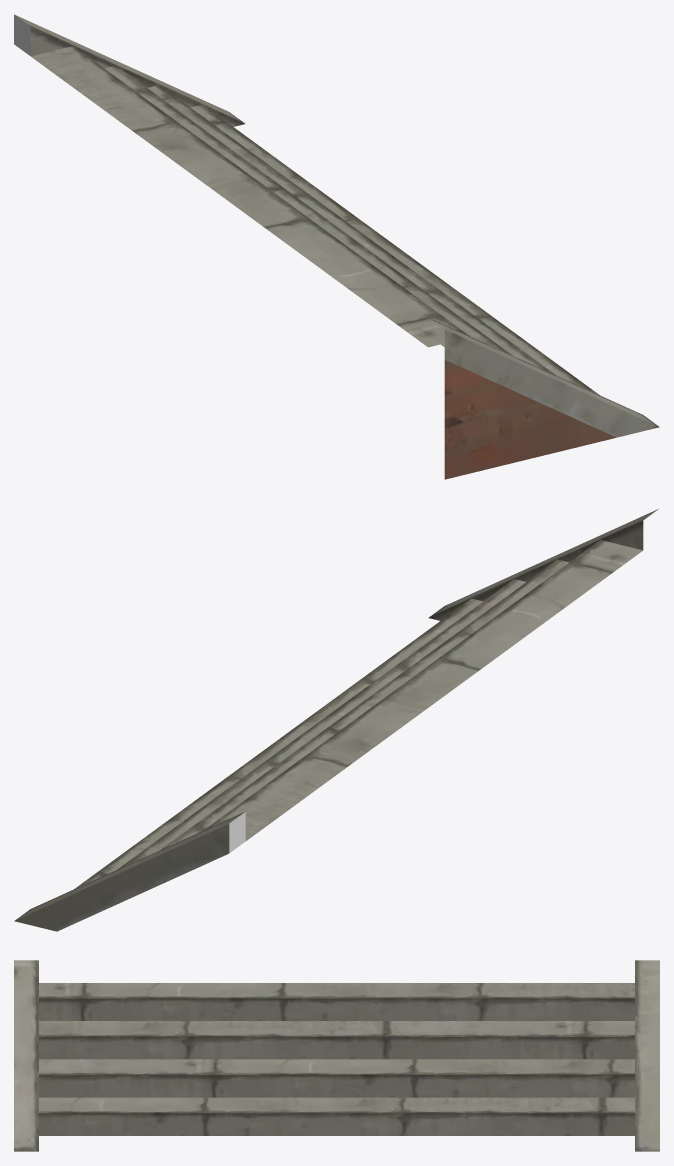
The picture shows the model from 3 angles, top to bottom: view 1: azimuth 30°, elevation 25°; view 2: azimuth 150°, elevation 25°; view 3: azimuth 270°, elevation 25°; orthographic projection. The views are drawn at different scales.
Visible parts, largest first — view 1: body0_model0_lod0_mesh0, body0_model0_lod0_mesh2; view 2: body0_model0_lod0_mesh0; view 3: body0_model0_lod0_mesh0.
Part boxes in pixels (bbox=[...]): body0_model0_lod0_mesh0: bbox=[15, 15, 659, 437]; body0_model0_lod0_mesh2: bbox=[444, 360, 616, 479]; body0_model0_lod0_mesh0: bbox=[14, 509, 658, 931]; body0_model0_lod0_mesh0: bbox=[14, 960, 659, 1151].
Bounding box in the file's own units: 60.01 × 40 × 208.
Materials: 3 (2 with a texture image).
